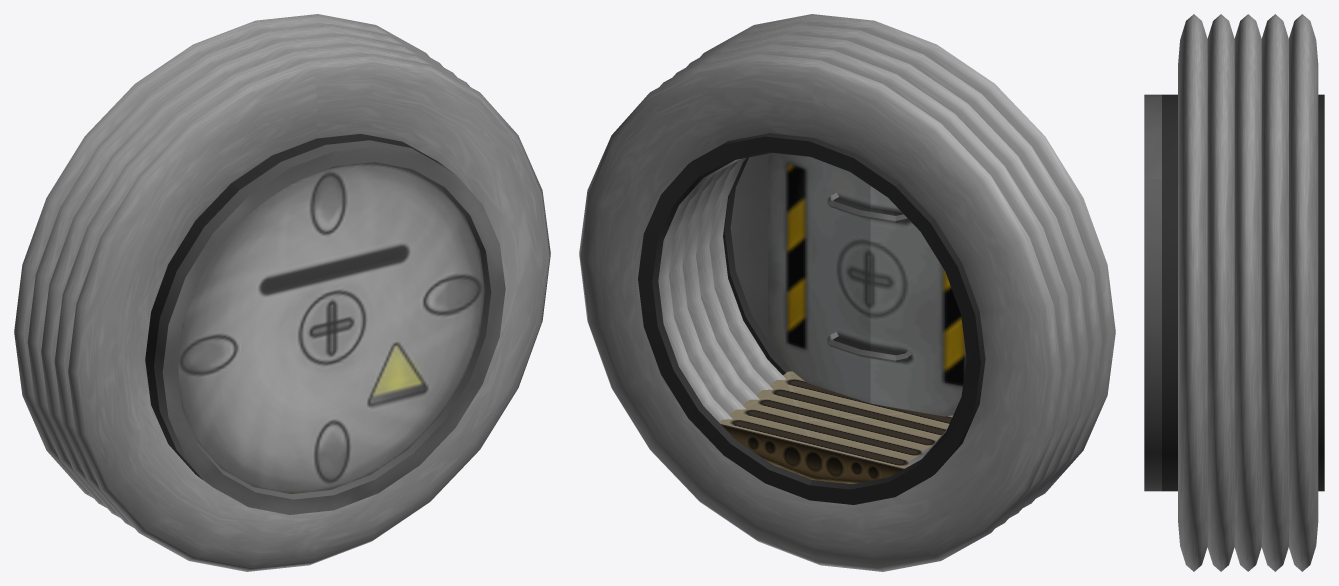
The model's file is PCT.FBX.
3 views of the same model, side by side, from view 1: azimuth 30°, elevation 25°; view 2: azimuth 150°, elevation 25°; view 3: azimuth 270°, elevation 25° (orthographic).
Parts seen in each view (by area): view 1: NodePort003, Torus002, Torus003, Torus005, Torus004, Torus006, NodePort002; view 2: Torus006, Hatch, NodePort004, Cylinder013, Torus005, Torus004, Torus003, Torus002, NodePort002, LadderRung060, LadderRung069; view 3: Torus002, Torus006, Torus004, Torus005, Torus003, NodePort003, NodePort002, NodePort004.
Boxes of the visible parts, x1,y1,x2,y2 form: NodePort003: [154, 140, 505, 514]; Torus002: [68, 53, 550, 571]; Torus003: [54, 43, 469, 527]; Torus005: [27, 24, 442, 508]; Torus004: [41, 33, 456, 517]; Torus006: [14, 14, 429, 498]; NodePort002: [145, 134, 444, 479]; Torus006: [579, 53, 1061, 571]; Hatch: [768, 153, 966, 416]; NodePort004: [638, 133, 985, 504]; Cylinder013: [719, 371, 953, 484]; Torus005: [660, 43, 1075, 527]; Torus004: [673, 33, 1088, 517]; Torus003: [687, 24, 1102, 508]; Torus002: [700, 14, 1115, 498]; NodePort002: [723, 153, 791, 374]; LadderRung060: [827, 332, 911, 362]; LadderRung069: [827, 192, 907, 222]; Torus002: [1178, 14, 1207, 571]; Torus006: [1289, 14, 1318, 571]; Torus004: [1234, 14, 1261, 571]; Torus005: [1261, 14, 1288, 571]; Torus003: [1207, 14, 1234, 571]; NodePort003: [1144, 94, 1161, 491]; NodePort002: [1162, 94, 1177, 491]; NodePort004: [1318, 94, 1324, 491].
Size of what is drawn, in the model's own units: 1.23 by 0.3958 by 1.23.
2 materials, 2 textured.
